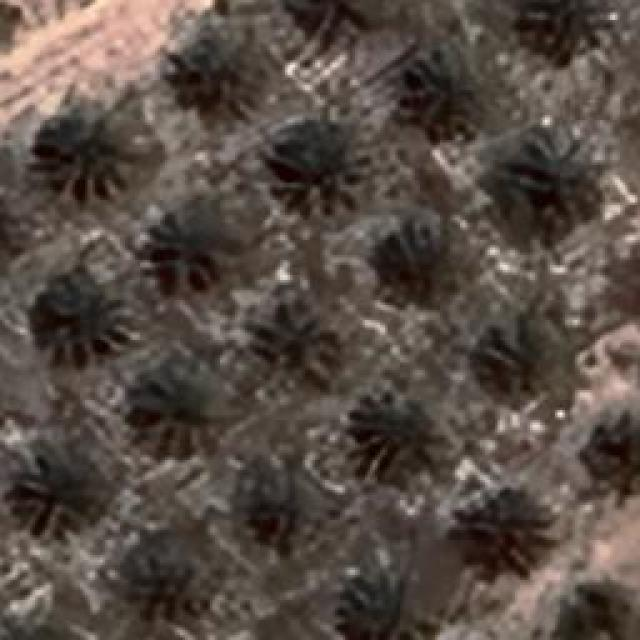PalmTree: (39, 26, 589, 627), (472, 116, 596, 239), (139, 190, 259, 295), (32, 100, 150, 202), (442, 478, 558, 580), (228, 448, 334, 554), (108, 525, 216, 625), (160, 15, 262, 120), (462, 300, 566, 400), (125, 358, 225, 458), (10, 442, 115, 530), (380, 215, 480, 303), (278, 123, 378, 210), (405, 38, 490, 138), (35, 275, 130, 363), (245, 300, 338, 385), (350, 390, 440, 472), (330, 557, 407, 640), (582, 402, 638, 500), (276, 0, 369, 55), (522, 0, 610, 55), (0, 182, 22, 266), (0, 621, 82, 640), (0, 180, 16, 268), (0, 0, 16, 69)
